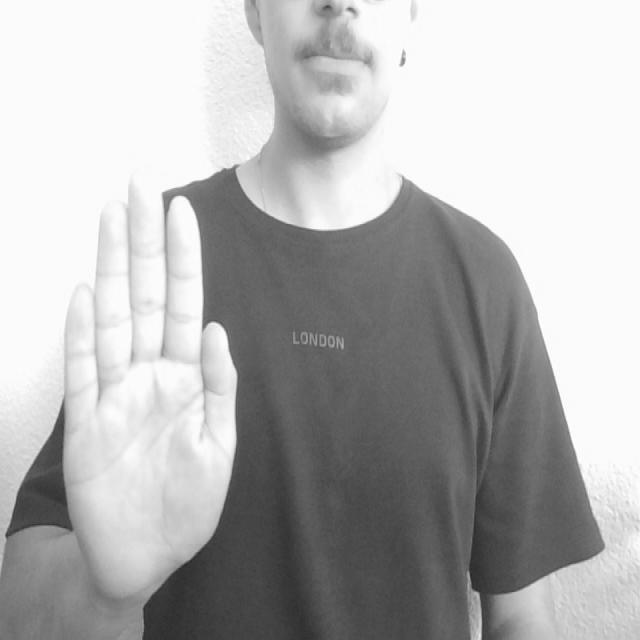Dur: (49, 145, 254, 596)
